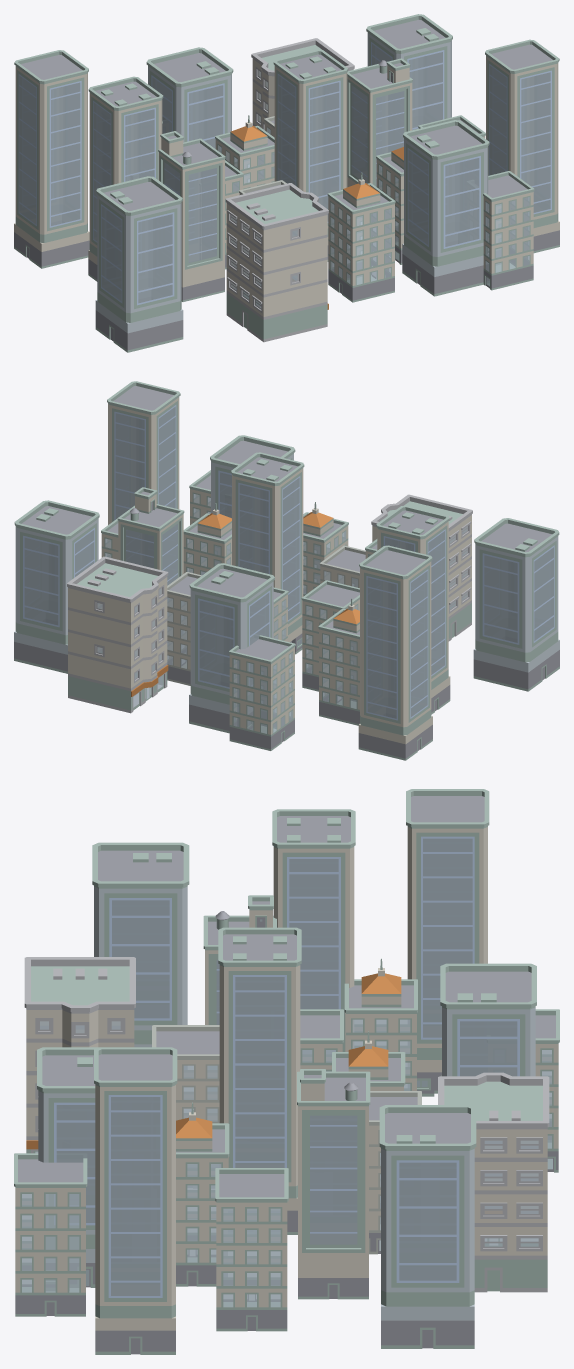
The model's file is buildings.fbx.
3 renders of one model, top to bottom at view 1: azimuth 30°, elevation 25°; view 2: azimuth 150°, elevation 25°; view 3: azimuth 270°, elevation 25°, orthographic. The views are drawn at different scales.
Parts seen in each view (by area): view 1: skyscraperB.001, large_buildingE, skyscraperA.001, skyscraperA, skyscraperB.003, skyscraperB.002, skyscraperB, skyscraperC, skyscraperE.001, skyscraperC.001, skyscraperA.002, skyscraperA.003 (+5 smaller); view 2: skyscraperB.001, large_buildingE.001, skyscraperA.001, skyscraperA.003, skyscraperA.002, skyscraperB.002, skyscraperB.003, skyscraperE.002, skyscraperB, skyscraperE.003, skyscraperC.001, large_buildingE (+9 smaller); view 3: skyscraperB.003, skyscraperA.003, skyscraperB.002, skyscraperB.001, large_buildingE.001, skyscraperC.001, skyscraperA.001, skyscraperB, skyscraperE.009, large_buildingE, skyscraperE.007, skyscraperA.002 (+9 smaller).
Boxes of the visible parts, left/top/right/bottom form: skyscraperB.001: left=14, top=50, right=89, bottom=268; large_buildingE: left=225, top=183, right=328, bottom=342; skyscraperA.001: left=95, top=176, right=183, bottom=352; skyscraperA: left=402, top=120, right=489, bottom=296; skyscraperB.003: left=485, top=39, right=559, bottom=253; skyscraperB.002: left=273, top=49, right=348, bottom=261; skyscraperB: left=88, top=76, right=163, bottom=281; skyscraperC: left=158, top=131, right=225, bottom=301; skyscraperE.001: left=327, top=172, right=395, bottom=302; skyscraperC.001: left=347, top=58, right=412, bottom=187; skyscraperA.002: left=146, top=47, right=233, bottom=148; skyscraperA.003: left=366, top=14, right=452, bottom=130; skyscraperB.001: left=358, top=545, right=432, bottom=760; large_buildingE.001: left=67, top=556, right=168, bottom=713; skyscraperA.001: left=473, top=518, right=559, bottom=691; skyscraperA.003: left=14, top=500, right=99, bottom=673; skyscraperA.002: left=189, top=563, right=274, bottom=733; skyscraperB.002: left=231, top=452, right=304, bottom=654; skyscraperB.003: left=107, top=381, right=180, bottom=524; skyscraperE.002: left=229, top=635, right=295, bottom=750; skyscraperB: left=376, top=505, right=450, bottom=714; skyscraperE.003: left=318, top=598, right=359, bottom=725; skyscraperC.001: left=117, top=487, right=184, bottom=585; large_buildingE: left=371, top=494, right=472, bottom=641; skyscraperB.003: left=94, top=1047, right=177, bottom=1354; skyscraperA.003: left=379, top=1105, right=476, bottom=1348; skyscraperB.002: left=218, top=927, right=301, bottom=1234; skyscraperB.001: left=406, top=789, right=489, bottom=1096; large_buildingE.001: left=438, top=1072, right=549, bottom=1292; skyscraperC.001: left=297, top=1069, right=370, bottom=1299; skyscraperA.001: left=92, top=842, right=189, bottom=1047; skyscraperB: left=272, top=809, right=355, bottom=1051; skyscraperE.009: left=215, top=1168, right=288, bottom=1331; large_buildingE: left=24, top=957, right=135, bottom=1153; skyscraperE.007: left=14, top=1153, right=87, bottom=1316; skyscraperA.002: left=440, top=963, right=536, bottom=1076.
Size of the model in its own units: 1236 by 509 by 923.
